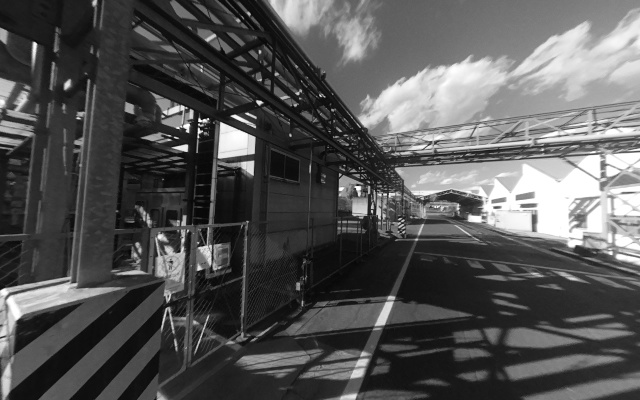bollard: (2, 280, 162, 400), (396, 214, 407, 238)
